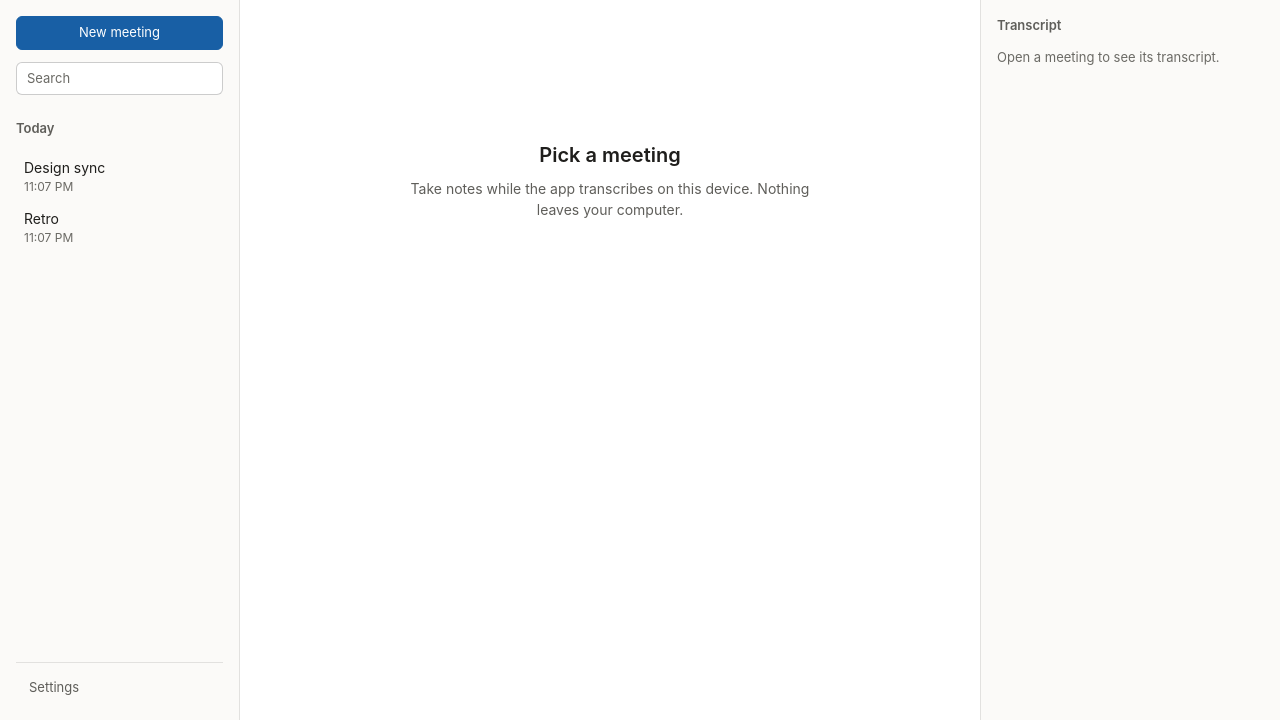
App › transcript pane › returns for another meeting you click
Click the button "Design sync 11:07 PM".
click(120, 176)  # box [16,150,223,202]
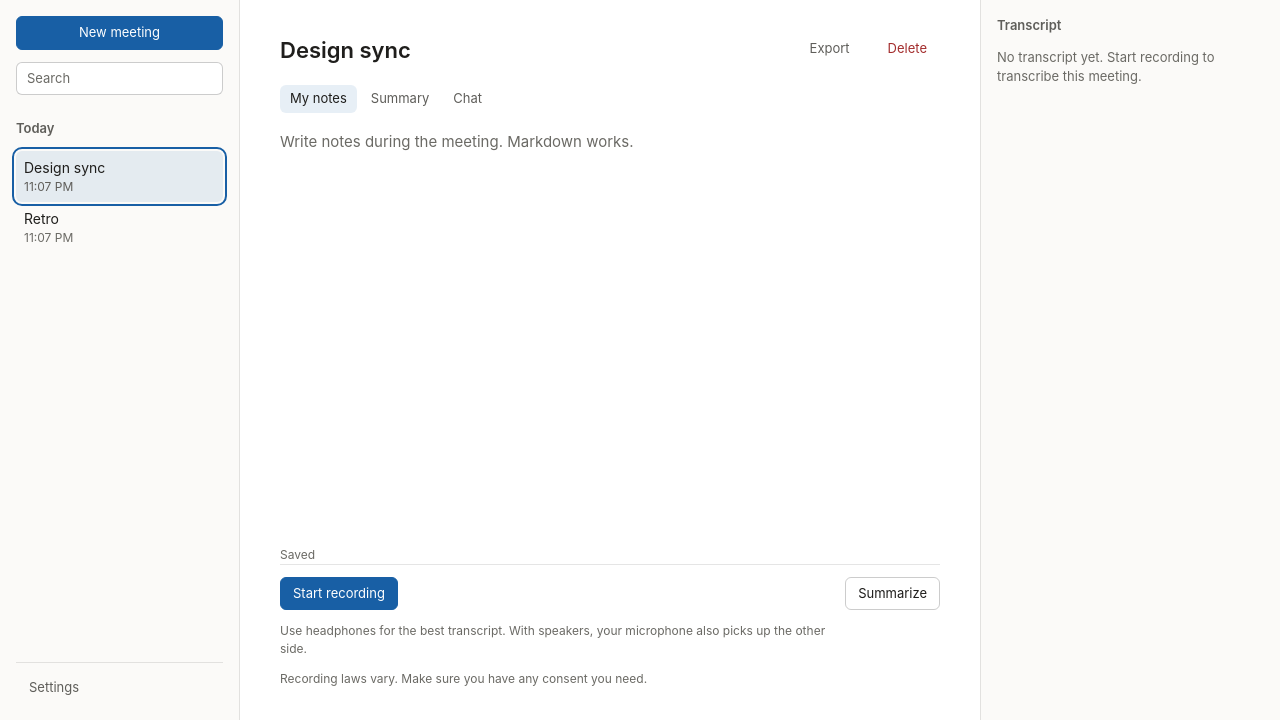
Expected: the element "Transcript" is shown, [980,0,1279,719]
Result: the field named "Meeting title" is shown at [276,32,781,69]
Click the button "Settings".
click(120, 687)  # box [16,670,223,704]
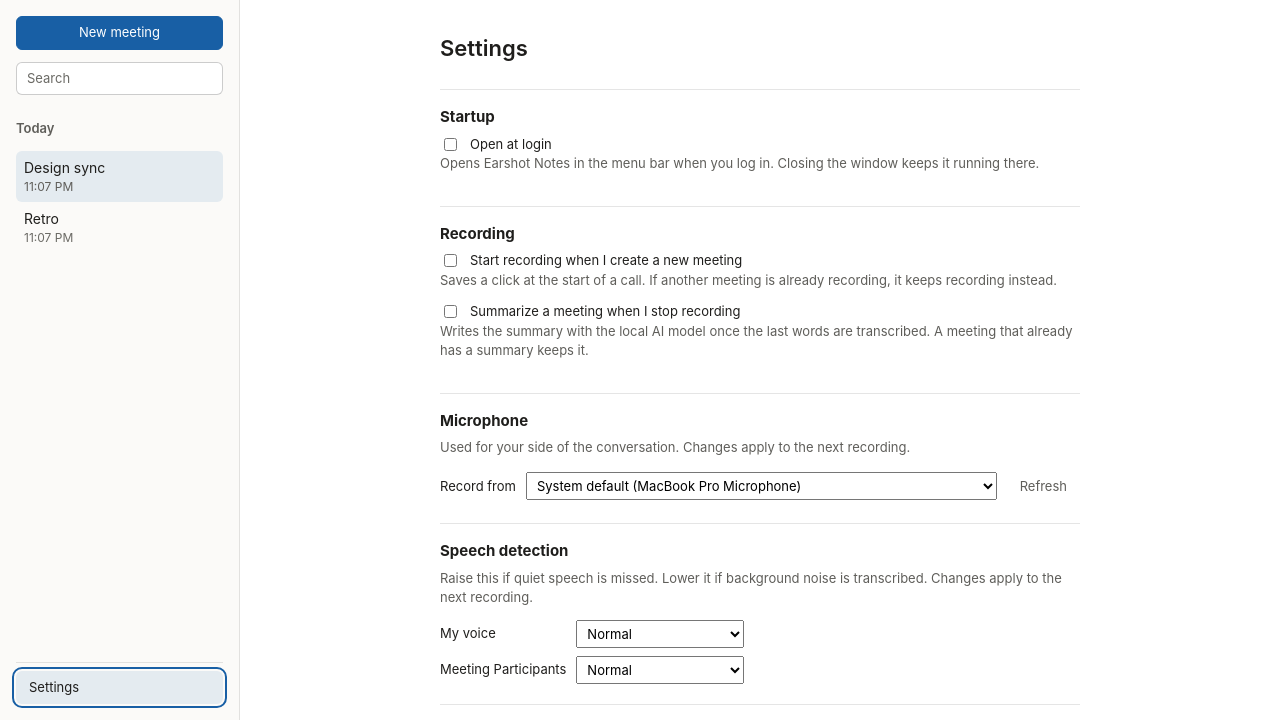
Result: the heading "Settings" is shown at [440,35,528,61]
Click the button "Retro 11:07 PM".
click(120, 227)  # box [16,202,223,252]
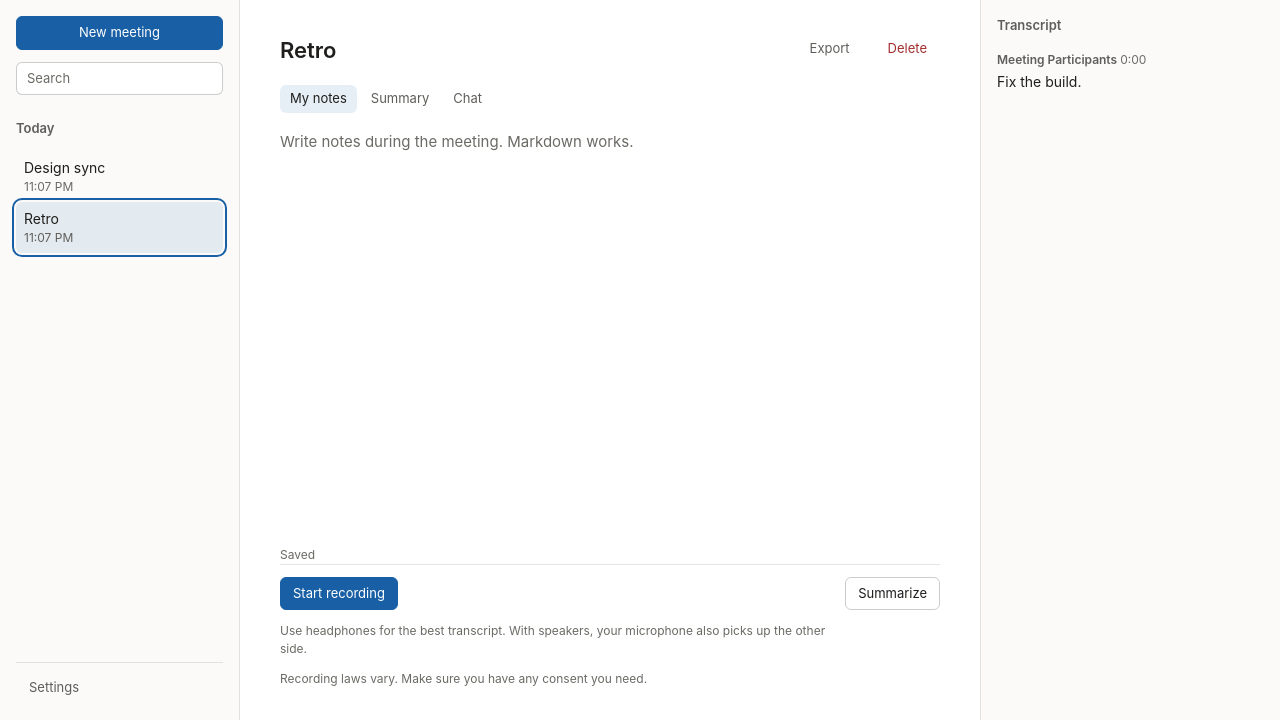
Result: the text "Fix the build." is shown at [997,72,1081,90]
